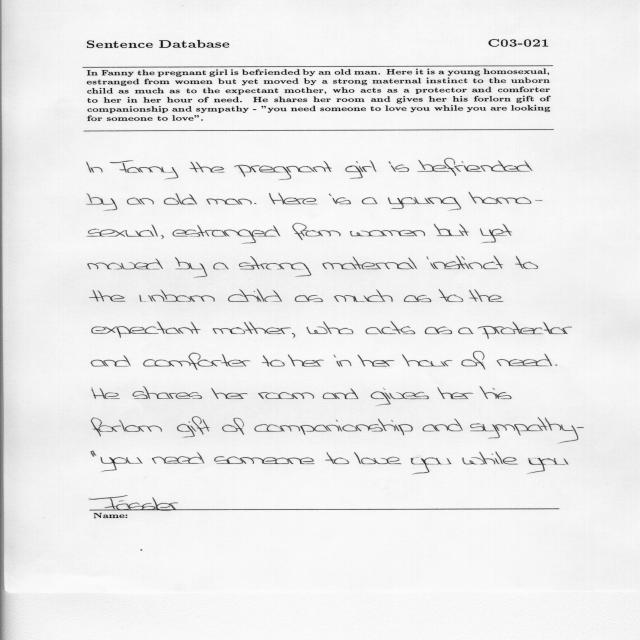word: (470, 417, 578, 443), (254, 419, 413, 435), (417, 158, 533, 176), (173, 225, 281, 244), (234, 161, 332, 180), (92, 321, 200, 338), (143, 353, 251, 370), (478, 322, 572, 339), (239, 256, 311, 277), (92, 418, 162, 437), (213, 322, 296, 338), (110, 161, 178, 180), (322, 257, 417, 270), (371, 388, 429, 406), (91, 451, 140, 472), (427, 256, 503, 269), (139, 289, 215, 302), (388, 197, 461, 210), (133, 386, 202, 399), (469, 192, 543, 204), (87, 225, 158, 237), (292, 223, 341, 240), (88, 259, 163, 270), (215, 456, 315, 464), (462, 452, 518, 465), (334, 290, 393, 302), (228, 289, 282, 302), (411, 458, 452, 475), (177, 417, 210, 438), (497, 354, 553, 366), (527, 458, 568, 474), (366, 321, 416, 334), (402, 354, 452, 367), (175, 257, 207, 277), (152, 452, 205, 464), (480, 224, 512, 243), (346, 160, 377, 179), (354, 452, 401, 464), (87, 193, 118, 211), (269, 193, 318, 204), (422, 419, 463, 432), (91, 355, 131, 367), (288, 354, 324, 367), (462, 351, 486, 370), (469, 289, 504, 302), (350, 230, 425, 236), (358, 355, 394, 367), (438, 387, 474, 399), (479, 386, 512, 399), (434, 224, 469, 236), (211, 388, 248, 399), (164, 193, 197, 205), (90, 290, 126, 301), (323, 388, 359, 399), (258, 392, 314, 399), (324, 321, 354, 334), (190, 162, 225, 173), (222, 418, 244, 435), (92, 387, 120, 399), (439, 289, 463, 302), (515, 256, 538, 269), (325, 452, 349, 464), (206, 199, 252, 205), (262, 355, 285, 367), (334, 354, 351, 367), (389, 161, 409, 172), (425, 327, 452, 335), (295, 295, 323, 302), (127, 198, 154, 205), (404, 295, 431, 302), (87, 162, 103, 173), (307, 327, 328, 334), (332, 198, 351, 205), (213, 263, 229, 270), (362, 197, 377, 204), (458, 328, 473, 335), (137, 457, 143, 464), (161, 235, 164, 239), (577, 427, 584, 428), (329, 194, 332, 196), (555, 364, 557, 366), (254, 203, 257, 204)
